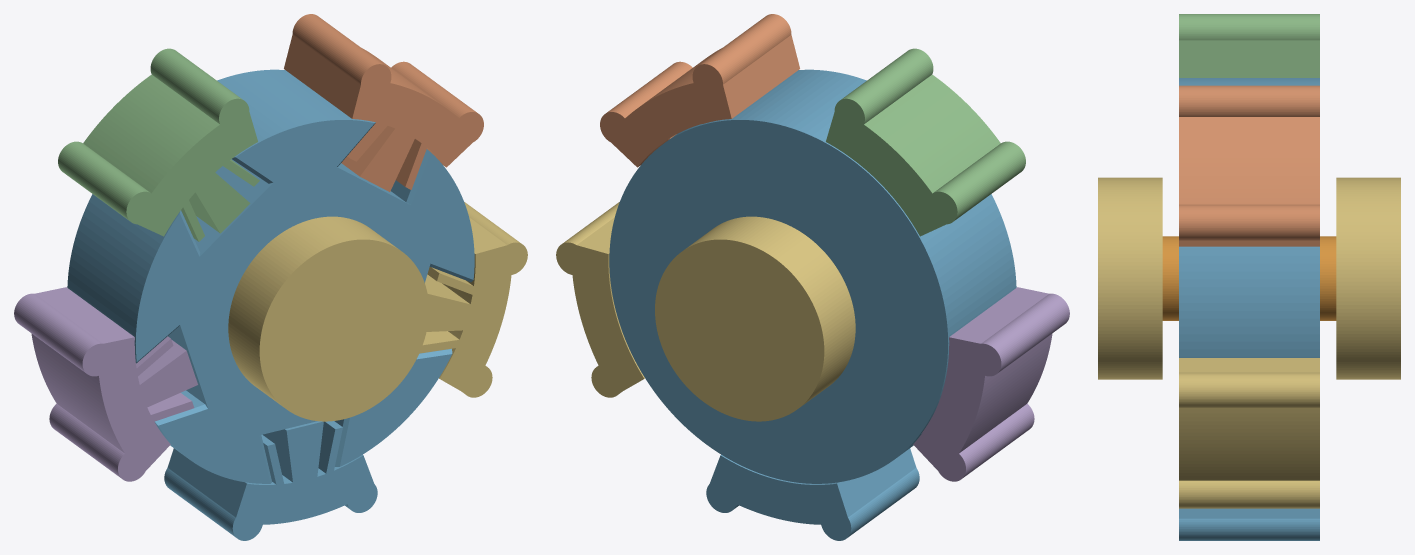
Rendered from oggie_spin_complete_assembly.glb.
The picture shows the model from 3 angles, left to right: view 1: azimuth 30°, elevation 25°; view 2: azimuth 150°, elevation 25°; view 3: azimuth 270°, elevation 25°; orthographic projection. The views are drawn at different scales.
Parts seen in each view (by area): view 1: complete_core, upper_thumb_pad, clip_lock_arm_4, clip_lock_arm_5, clip_lock_arm_3, clip_lock_arm_1, clip_lock_arm_2; view 2: complete_core, lower_thumb_pad, clip_lock_arm_4, clip_lock_arm_5, clip_lock_arm_3, clip_lock_arm_1, clip_lock_arm_2; view 3: clip_lock_arm_3, clip_lock_arm_2, complete_core, upper_thumb_pad, lower_thumb_pad, clip_lock_arm_4, clip_lock_arm_1, lower_split_collet_hub, upper_receiver_hub.
Boxes of the visible parts, bbox=[...] form: complete_core: bbox=[67, 69, 474, 483]; upper_thumb_pad: bbox=[228, 216, 428, 421]; clip_lock_arm_4: bbox=[58, 48, 259, 241]; clip_lock_arm_5: bbox=[14, 287, 197, 481]; clip_lock_arm_3: bbox=[284, 14, 483, 191]; clip_lock_arm_1: bbox=[164, 421, 377, 540]; clip_lock_arm_2: bbox=[419, 202, 527, 397]; complete_core: bbox=[609, 69, 1016, 483]; lower_thumb_pad: bbox=[655, 216, 855, 421]; clip_lock_arm_4: bbox=[826, 48, 1025, 236]; clip_lock_arm_5: bbox=[913, 287, 1069, 481]; clip_lock_arm_3: bbox=[600, 14, 799, 167]; clip_lock_arm_1: bbox=[706, 448, 919, 540]; clip_lock_arm_2: bbox=[556, 202, 644, 397]; clip_lock_arm_3: bbox=[1179, 85, 1319, 246]; clip_lock_arm_2: bbox=[1179, 358, 1319, 508]; complete_core: bbox=[1179, 78, 1319, 357]; upper_thumb_pad: bbox=[1098, 177, 1162, 379]; lower_thumb_pad: bbox=[1336, 177, 1400, 379]; clip_lock_arm_4: bbox=[1179, 14, 1319, 77]; clip_lock_arm_1: bbox=[1179, 508, 1319, 540]; lower_split_collet_hub: bbox=[1320, 236, 1336, 320]; upper_receiver_hub: bbox=[1162, 236, 1178, 320].
Bounding box in the file's own units: 52.57 × 50.17 × 30.
